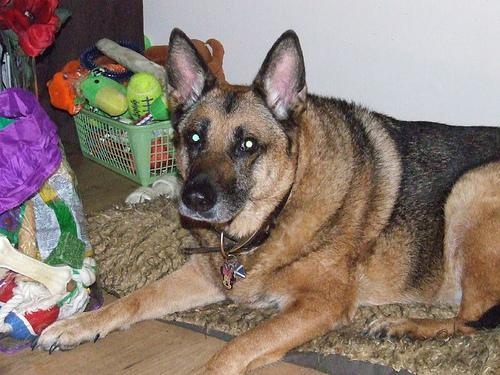German_shepherd: (27, 26, 499, 374)
